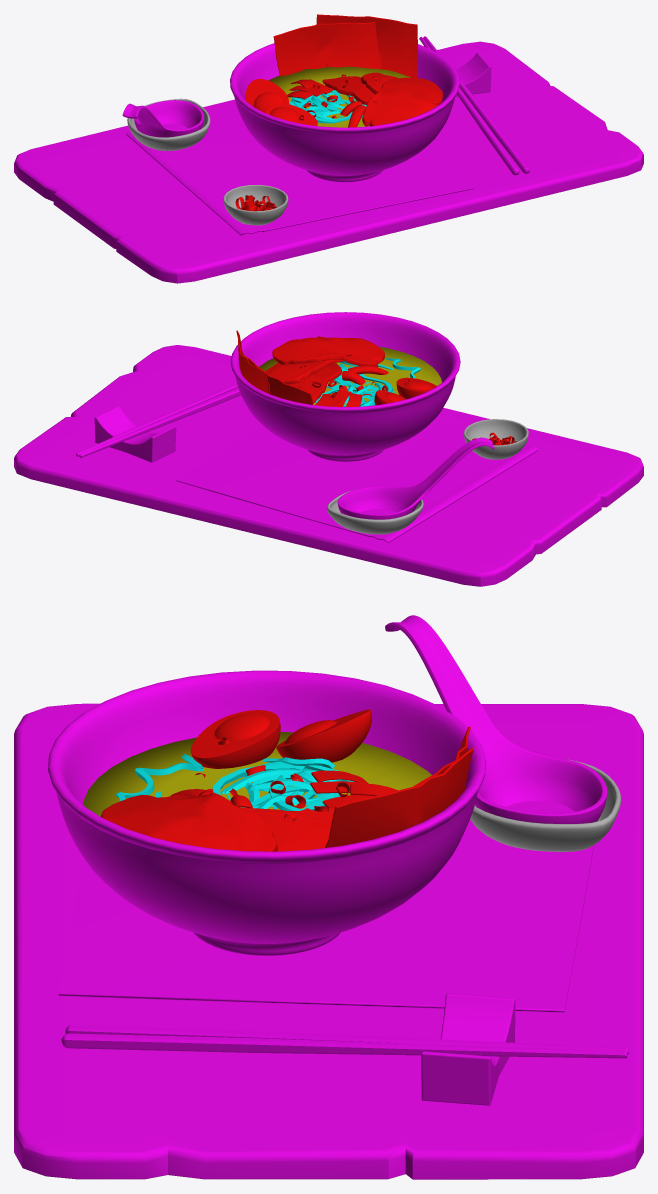
Rendered from Ramen_mesh_posed_sunstance_export.fbx.
The picture shows the model from 3 angles, top to bottom: view 1: azimuth 30°, elevation 25°; view 2: azimuth 150°, elevation 25°; view 3: azimuth 270°, elevation 25°; orthographic projection. The views are drawn at different scales.
Visible parts, largest first — view 1: wood, Cloth, Bowl, Seaweed2, Ham_3, Seaweed, spoon, Broth, chopsticks, Tiny_bowl, Spoon_bowl, Noodles (+6 smaller); view 2: wood, Cloth, Bowl, spoon, Ham_3, stickholder, chopsticks, Broth, Tiny_bowl, Spoon_bowl, Noodles, Ham_2 (+4 smaller); view 3: wood, Bowl, Cloth, spoon, chopsticks, Broth, stickholder, Ham_3, Seaweed, Noodles, Spoon_bowl, egg_2 (+2 smaller).
Part boxes in pixels (box(x1,y1,x2,y2)): wood: box(14, 41, 643, 283); Cloth: box(126, 110, 473, 235); Bowl: box(230, 43, 459, 182); Seaweed2: box(273, 22, 381, 76); Ham_3: box(362, 77, 442, 126); Seaweed: box(316, 14, 417, 77); spoon: box(122, 100, 204, 137); Broth: box(268, 66, 410, 127); chopsticks: box(419, 36, 529, 175); Tiny_bowl: box(223, 185, 288, 225); Spoon_bowl: box(127, 98, 210, 150); Noodles: box(289, 90, 366, 123); wood: box(14, 345, 643, 586); Cloth: box(176, 418, 538, 543); Bowl: box(230, 312, 460, 461); spoon: box(337, 437, 494, 519); Ham_3: box(272, 336, 384, 367); stickholder: box(94, 405, 176, 462); chopsticks: box(76, 382, 240, 457); Broth: box(259, 347, 441, 404); Tiny_bowl: box(464, 419, 528, 459); Spoon_bowl: box(327, 490, 423, 534); Noodles: box(315, 358, 420, 406); Ham_2: box(266, 359, 344, 384); wood: box(14, 703, 643, 1179); Bowl: box(48, 670, 485, 955); Cloth: box(58, 819, 594, 1012); spoon: box(385, 615, 607, 823); chopsticks: box(61, 1024, 628, 1058); Broth: box(83, 732, 431, 816); stickholder: box(421, 993, 515, 1105); Ham_3: box(101, 793, 277, 851); Seaweed: box(325, 747, 473, 847); Noodles: box(115, 754, 354, 810); Spoon_bowl: box(470, 759, 621, 851); egg_2: box(190, 710, 280, 768).
Bounding box in the file's own units: 21.64 × 5.09 × 12.65.
